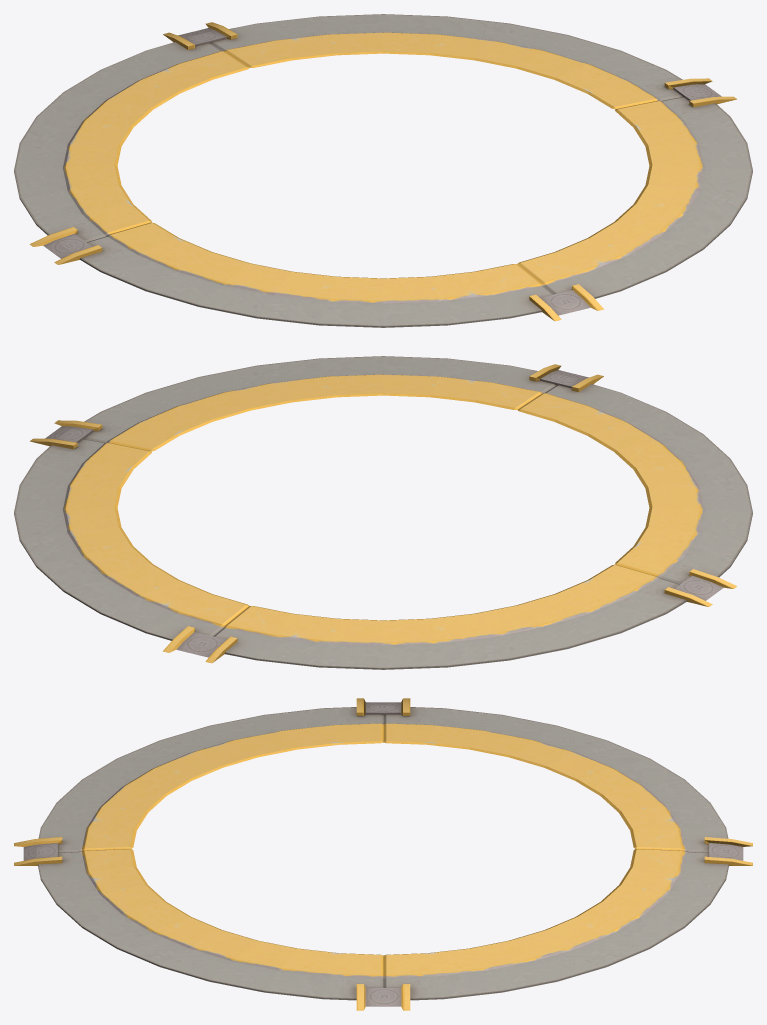
The model's file is Demo_xianjing_standard.FBX.
3 views of the same model, one above another, from view 1: azimuth 30°, elevation 25°; view 2: azimuth 150°, elevation 25°; view 3: azimuth 270°, elevation 25° (orthographic). The views are drawn at different scales.
Parts seen in each view (by area): view 1: Cylinder009; view 2: Cylinder009; view 3: Cylinder009.
Boxes of the visible parts, x1,y1,x2,y2 form: Cylinder009: (14,14,752,327); Cylinder009: (14,356,752,669); Cylinder009: (14,698,752,1010).
Bounding box in the file's own units: 9.85 × 0.0947 × 9.85.
